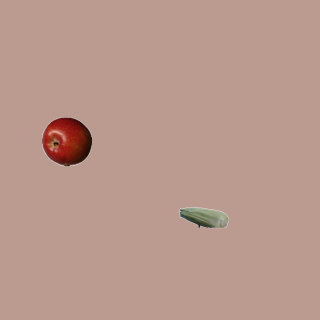Apple Braeburn: (41, 116, 91, 166)
Corn Husk: (178, 192, 228, 242)
